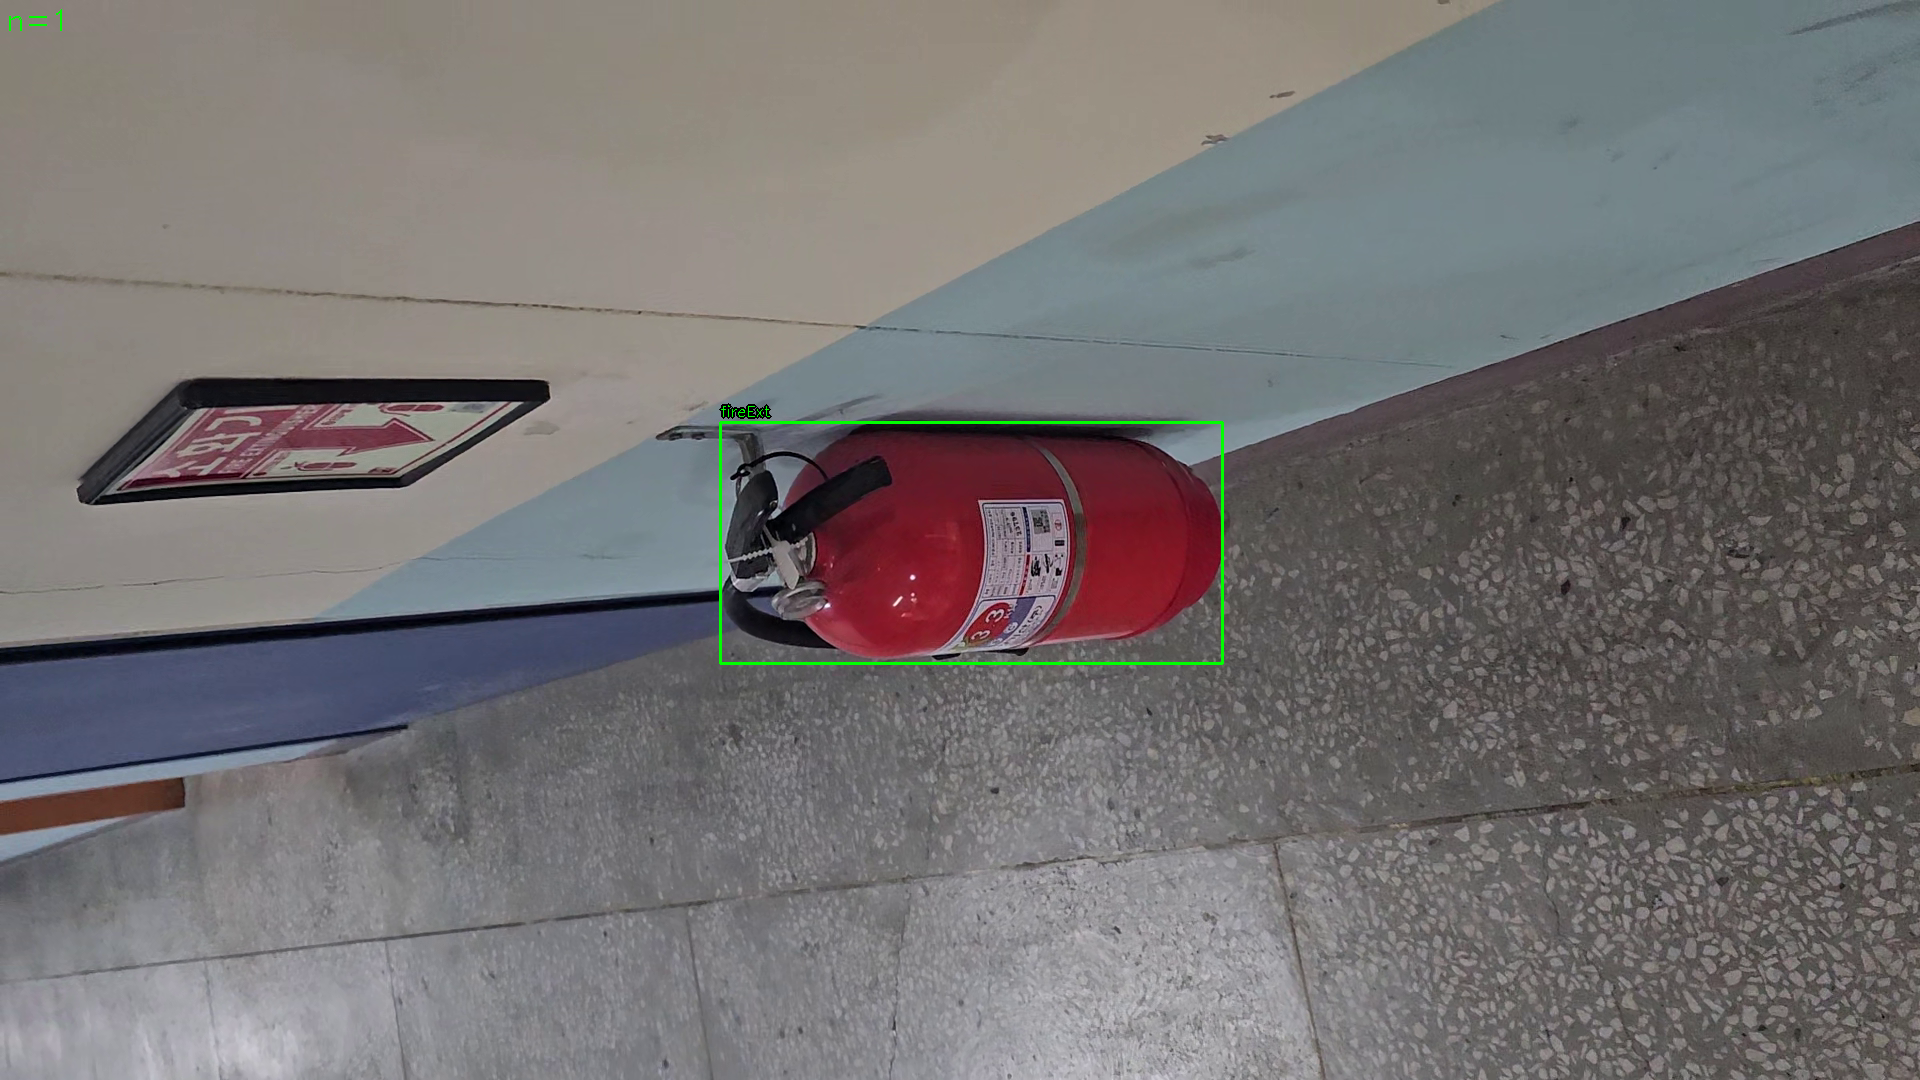lane: (720, 422, 1222, 665)
